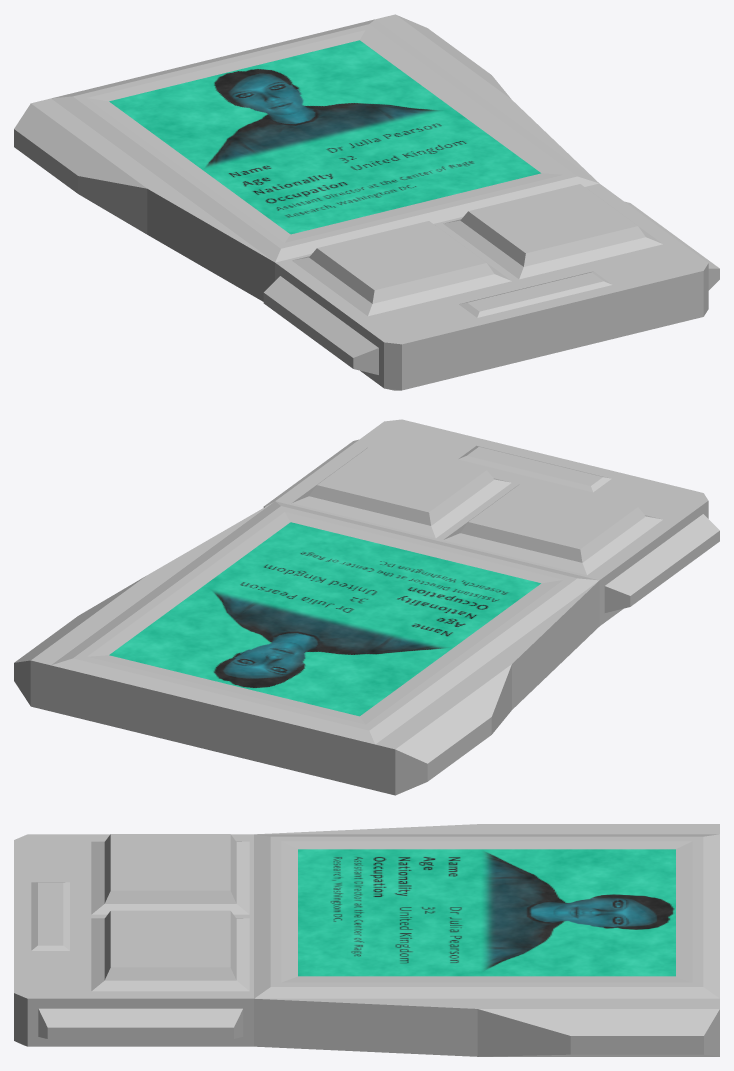
File: PDA.FBX
3 views of the same model, one above another, from view 1: azimuth 30°, elevation 25°; view 2: azimuth 150°, elevation 25°; view 3: azimuth 270°, elevation 25° (orthographic). The views are drawn at different scales.
Visible parts, largest first — view 1: Box001, Screen; view 2: Box001, Screen; view 3: Box001, Screen.
Boxes of the visible parts, box(x1,y1,x2,y2) form: Box001: box(14, 14, 719, 390); Screen: box(109, 40, 540, 234); Box001: box(14, 419, 719, 795); Screen: box(109, 522, 540, 716); Box001: box(14, 824, 719, 1056); Screen: box(298, 849, 675, 976).
Size of the model in its own units: 29.65 by 4.51 by 42.18.
